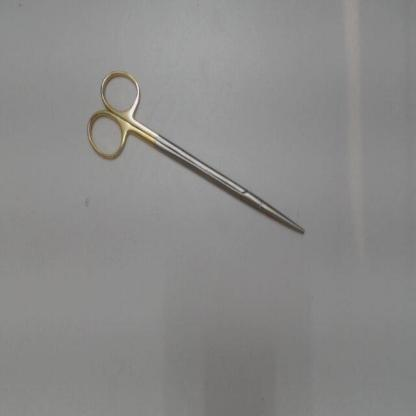7 Metzenbaum Scissors: (85, 65, 305, 232)
